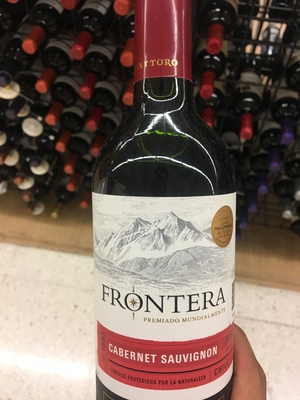frontera cabernet sauvignon: (88, 8, 242, 400)
